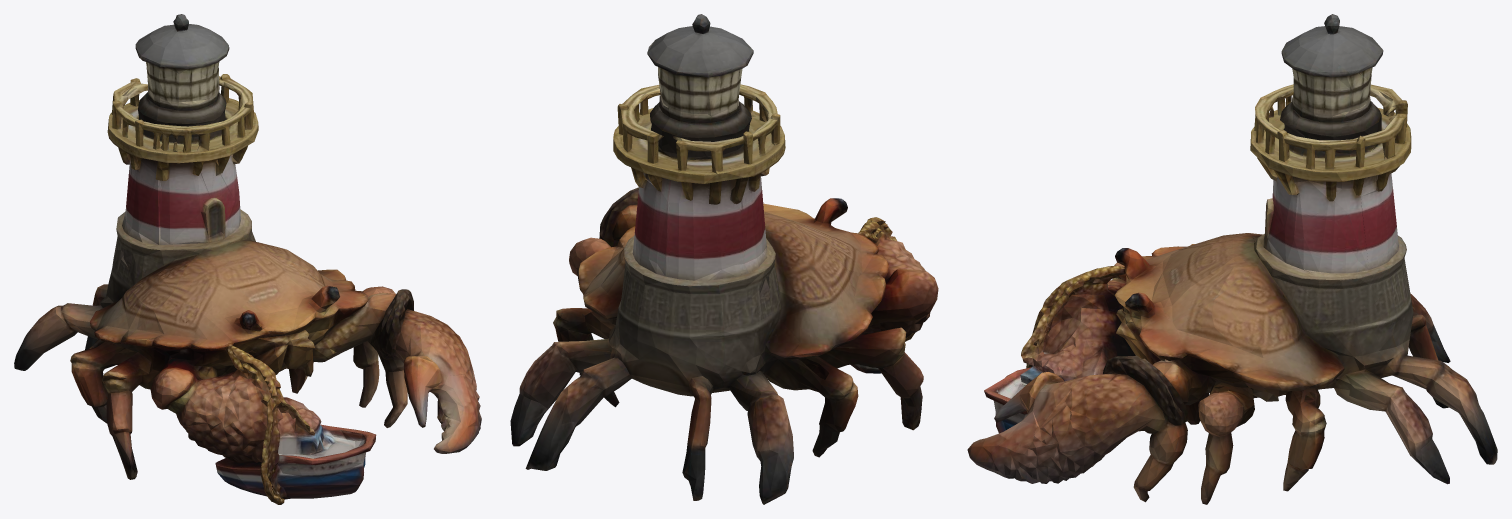
Rendered from atlacrab__lighthouseCrab.glb.
3 renders of one model, left to right at view 1: azimuth 30°, elevation 25°; view 2: azimuth 150°, elevation 25°; view 3: azimuth 270°, elevation 25°, orthographic. The views are drawn at different scales.
Parts seen in each view (by area): view 1: world; view 2: world; view 3: world.
Boxes of the visible parts, x1,y1,x2,y2 form: world: (14, 14, 481, 504); world: (510, 14, 938, 504); world: (967, 14, 1497, 504).
Size of the model in its own units: 0.6857 by 0.826 by 0.93.
1 material, 1 textured.
